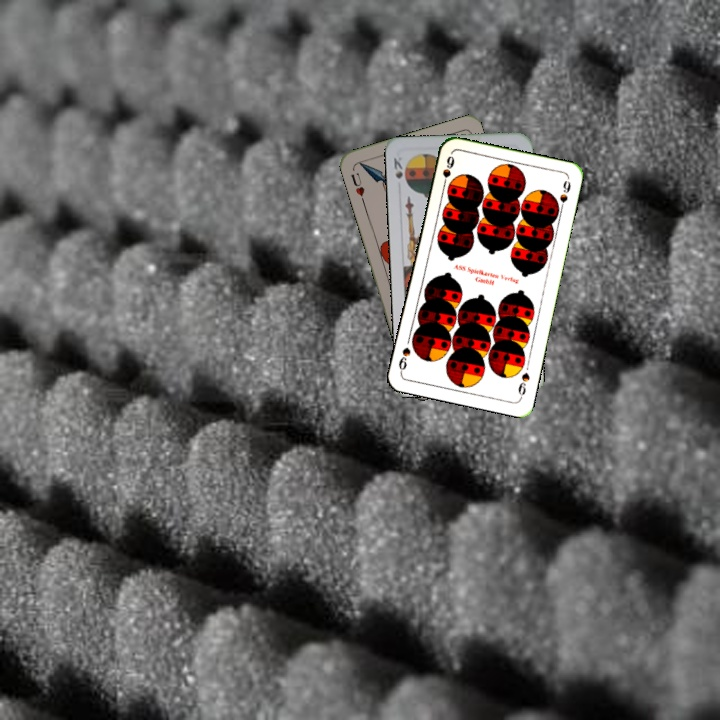HU: (347, 169, 367, 205)
S9: (438, 152, 457, 191), (514, 368, 532, 401)
SK: (390, 153, 405, 181)
